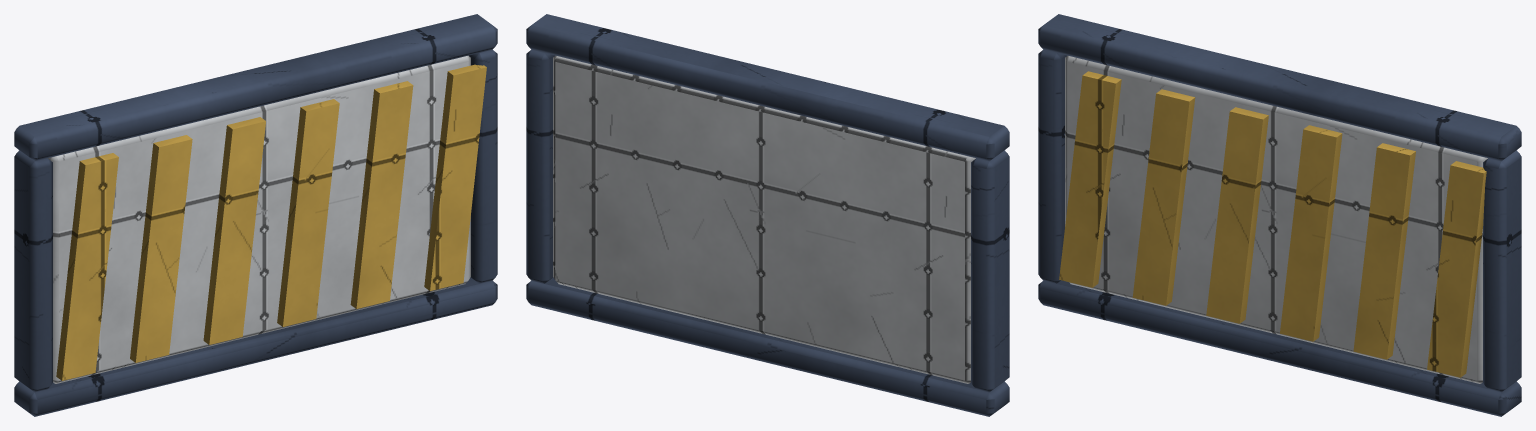
The model's file is hazard_panel.glb.
The picture shows the model from 3 angles, left to right: view 1: azimuth 30°, elevation 25°; view 2: azimuth 150°, elevation 25°; view 3: azimuth 330°, elevation 25°; orthographic projection.
Visible parts, largest first — view 1: DL017_HazardPanel_amber_accent, DL017_HazardPanel_graphite_navy, DL017_HazardPanel_hull_offwhite; view 2: DL017_HazardPanel_hull_offwhite, DL017_HazardPanel_graphite_navy; view 3: DL017_HazardPanel_amber_accent, DL017_HazardPanel_graphite_navy, DL017_HazardPanel_hull_offwhite.
Part boxes in pixels (box(x1,y1,x2,y2)): DL017_HazardPanel_amber_accent: box(56, 64, 486, 380); DL017_HazardPanel_graphite_navy: box(14, 14, 497, 416); DL017_HazardPanel_hull_offwhite: box(48, 55, 470, 383); DL017_HazardPanel_hull_offwhite: box(553, 55, 975, 383); DL017_HazardPanel_graphite_navy: box(526, 14, 1009, 416); DL017_HazardPanel_amber_accent: box(1059, 71, 1486, 377); DL017_HazardPanel_graphite_navy: box(1038, 14, 1521, 416); DL017_HazardPanel_hull_offwhite: box(1065, 55, 1487, 383).
Bounding box in the file's own units: 1.4 × 0.8 × 0.125.
3 materials, 3 textured.
